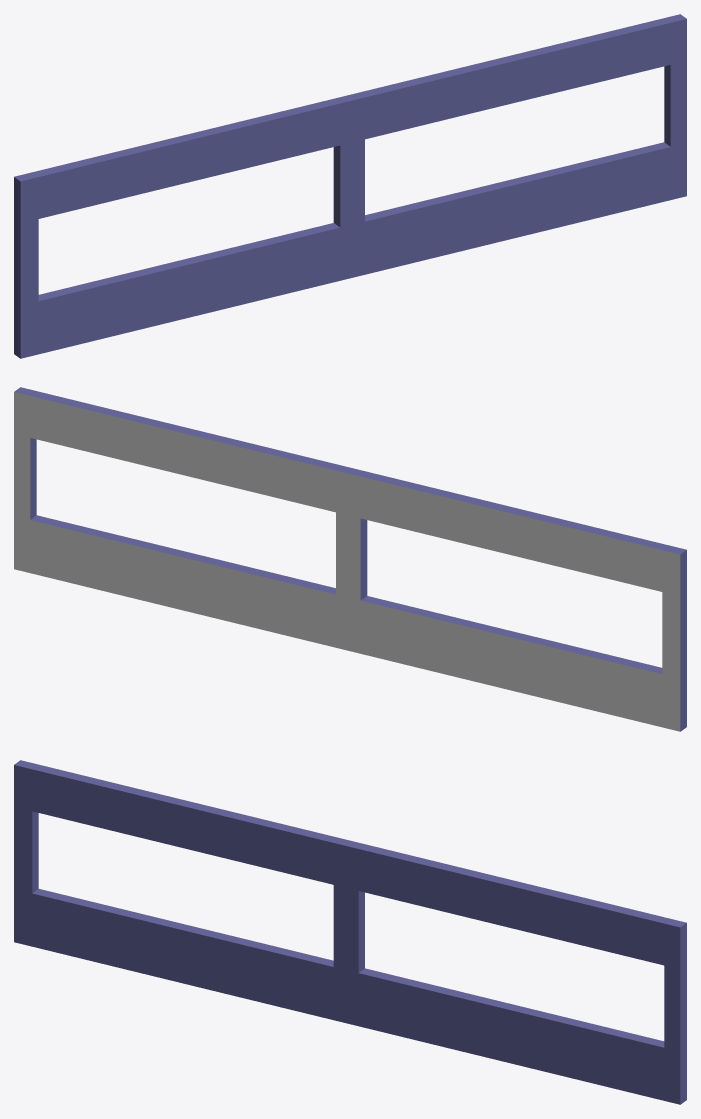
Rendered from Wall03.fbx.
3 views of the same model, one above another, from view 1: azimuth 30°, elevation 25°; view 2: azimuth 150°, elevation 25°; view 3: azimuth 330°, elevation 25° (orthographic).
Parts seen in each view (by area): view 1: Cube.182; view 2: Cube.182; view 3: Cube.182.
Boxes of the visible parts, box(x1,y1,x2,y2) form: Cube.182: box(14, 14, 686, 358); Cube.182: box(14, 387, 686, 731); Cube.182: box(14, 760, 686, 1104).
Size of the model in its own units: 1180 by 300 by 20.
